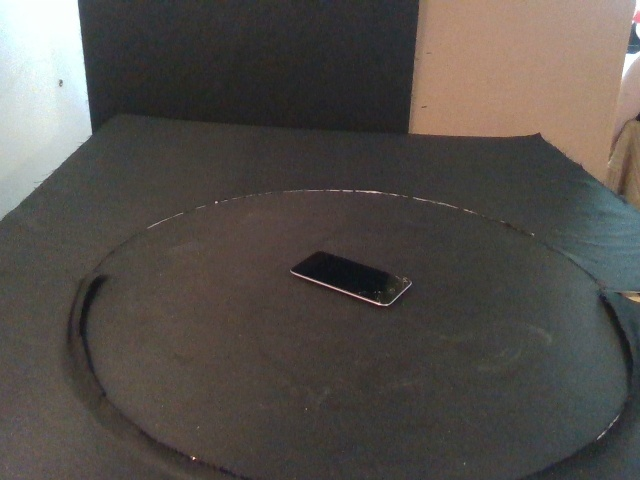phone: (289, 249, 411, 308)
